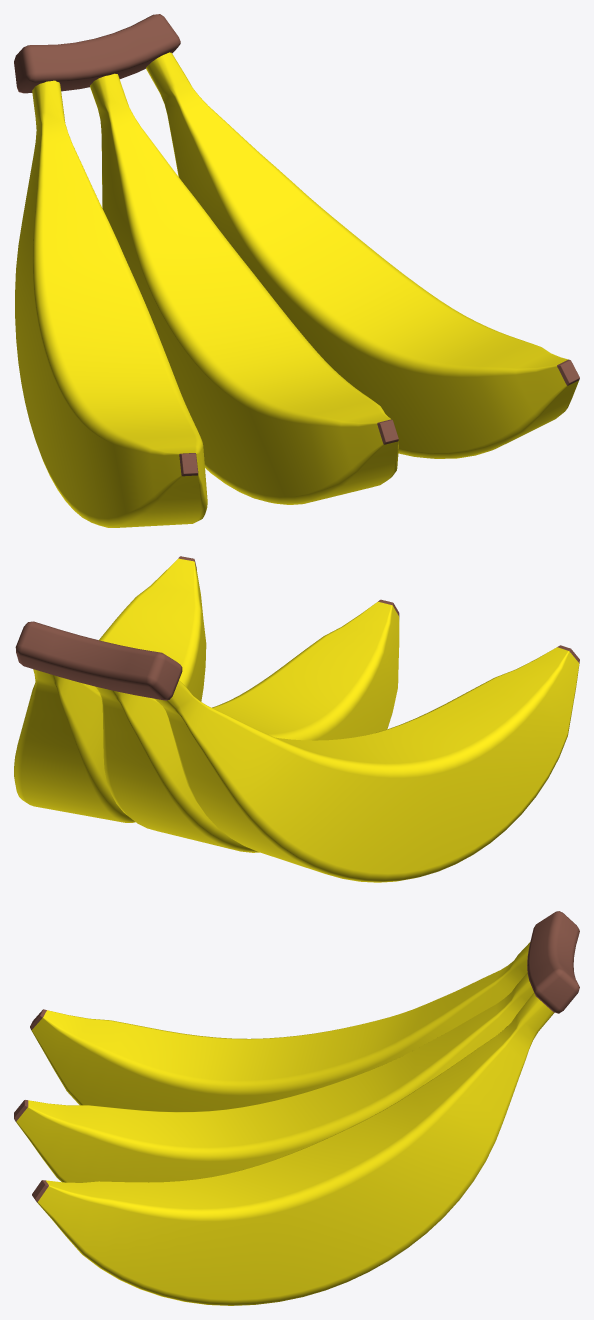
The model's file is Farm_17_Bunch_of_Bananas_1.glb.
The picture shows the model from 3 angles, top to bottom: view 1: azimuth 30°, elevation 25°; view 2: azimuth 150°, elevation 25°; view 3: azimuth 270°, elevation 25°; orthographic projection. The views are drawn at different scales.
Parts seen in each view (by area): view 1: Farm_17_Bunch_of_Bananas_1; view 2: Farm_17_Bunch_of_Bananas_1; view 3: Farm_17_Bunch_of_Bananas_1.
Boxes of the visible parts, <box> form: Farm_17_Bunch_of_Bananas_1: <box>14,14,579,527</box>; Farm_17_Bunch_of_Bananas_1: <box>14,556,579,882</box>; Farm_17_Bunch_of_Bananas_1: <box>14,911,579,1305</box>.
Size of the model in its own units: 0.4398 by 0.3055 by 0.5475.
Materials: 1 (1 with a texture image).
